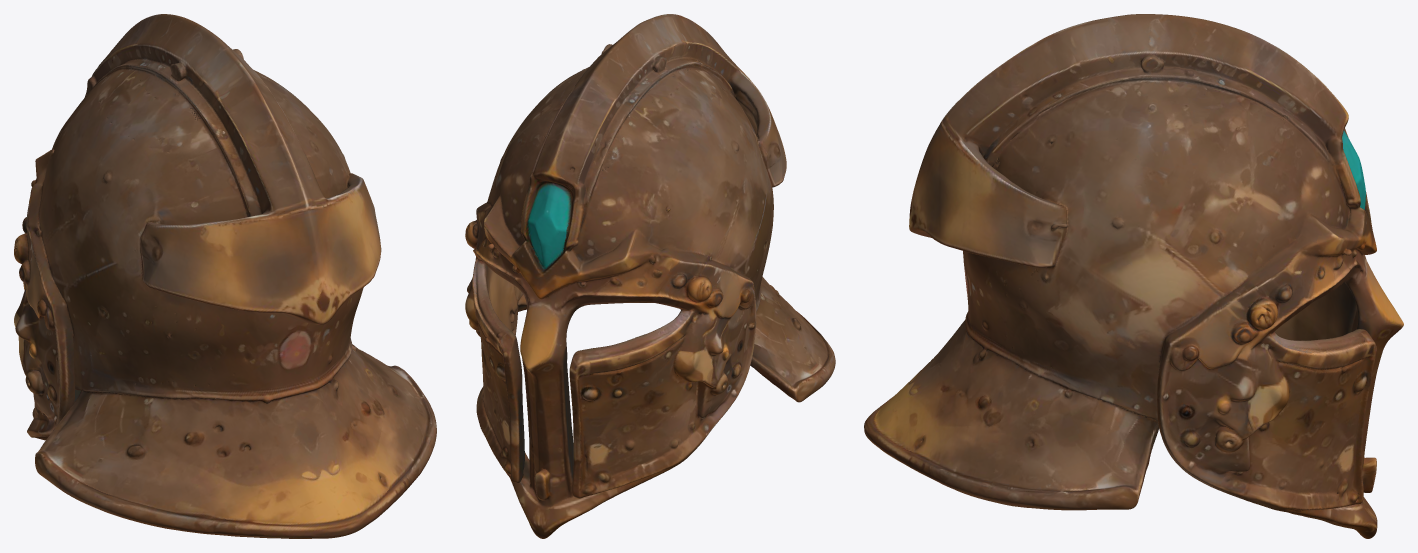
Rendered from خوذة_الصدى.glb.
3 renders of one model, left to right at view 1: azimuth 30°, elevation 25°; view 2: azimuth 150°, elevation 25°; view 3: azimuth 270°, elevation 25°, orthographic. The views are drawn at different scales.
Parts seen in each view (by area): view 1: tripo_node_4110b9b2-e3ab-47a5-8889-e27f3c791394; view 2: tripo_node_4110b9b2-e3ab-47a5-8889-e27f3c791394; view 3: tripo_node_4110b9b2-e3ab-47a5-8889-e27f3c791394.
Boxes of the visible parts, <box> form: tripo_node_4110b9b2-e3ab-47a5-8889-e27f3c791394: <box>14,14,436,538</box>; tripo_node_4110b9b2-e3ab-47a5-8889-e27f3c791394: <box>465,14,835,538</box>; tripo_node_4110b9b2-e3ab-47a5-8889-e27f3c791394: <box>864,14,1403,538</box>.
Bounding box in the file's own units: 0.7569 × 1 × 0.9337.
1 material, 1 textured.
